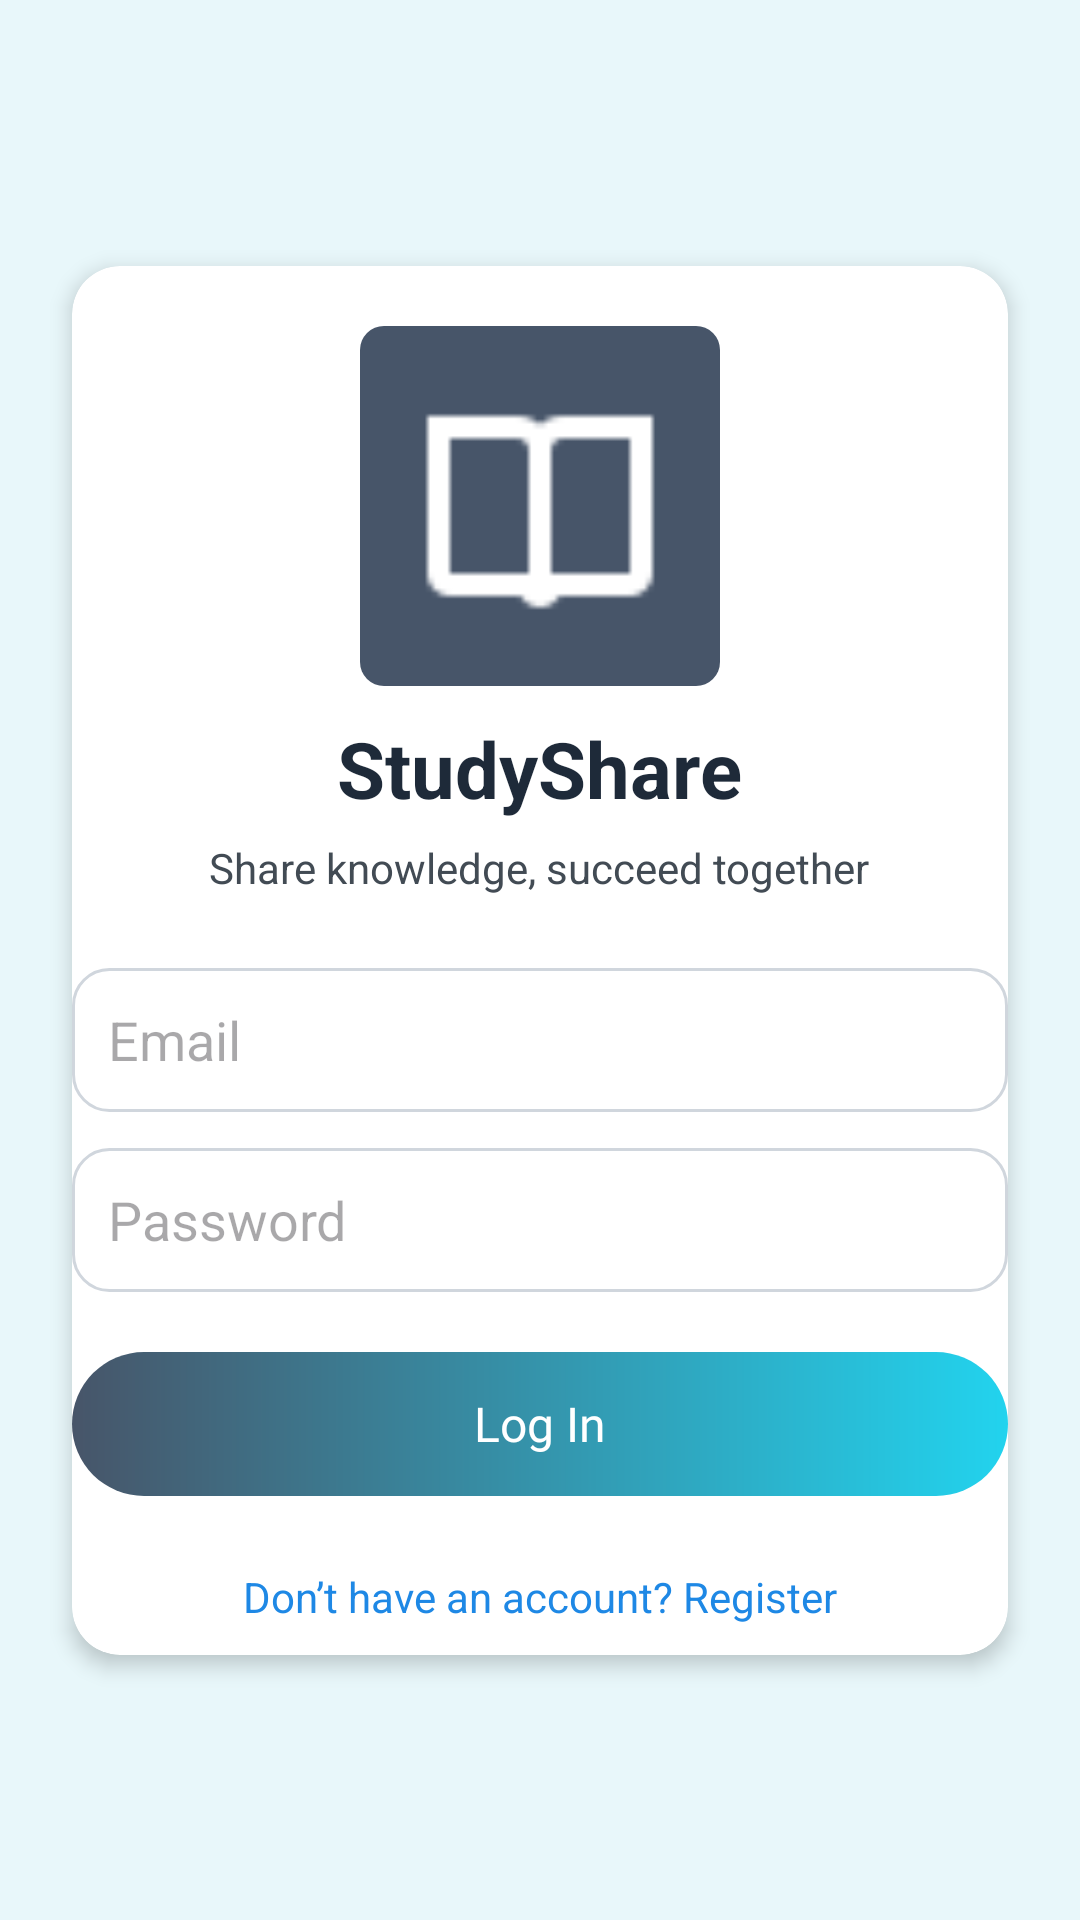

Icons on this 1080 x 1920 Android screen, each with its box as (x1, y1, x2, y2):
book: (425, 414, 655, 609)
